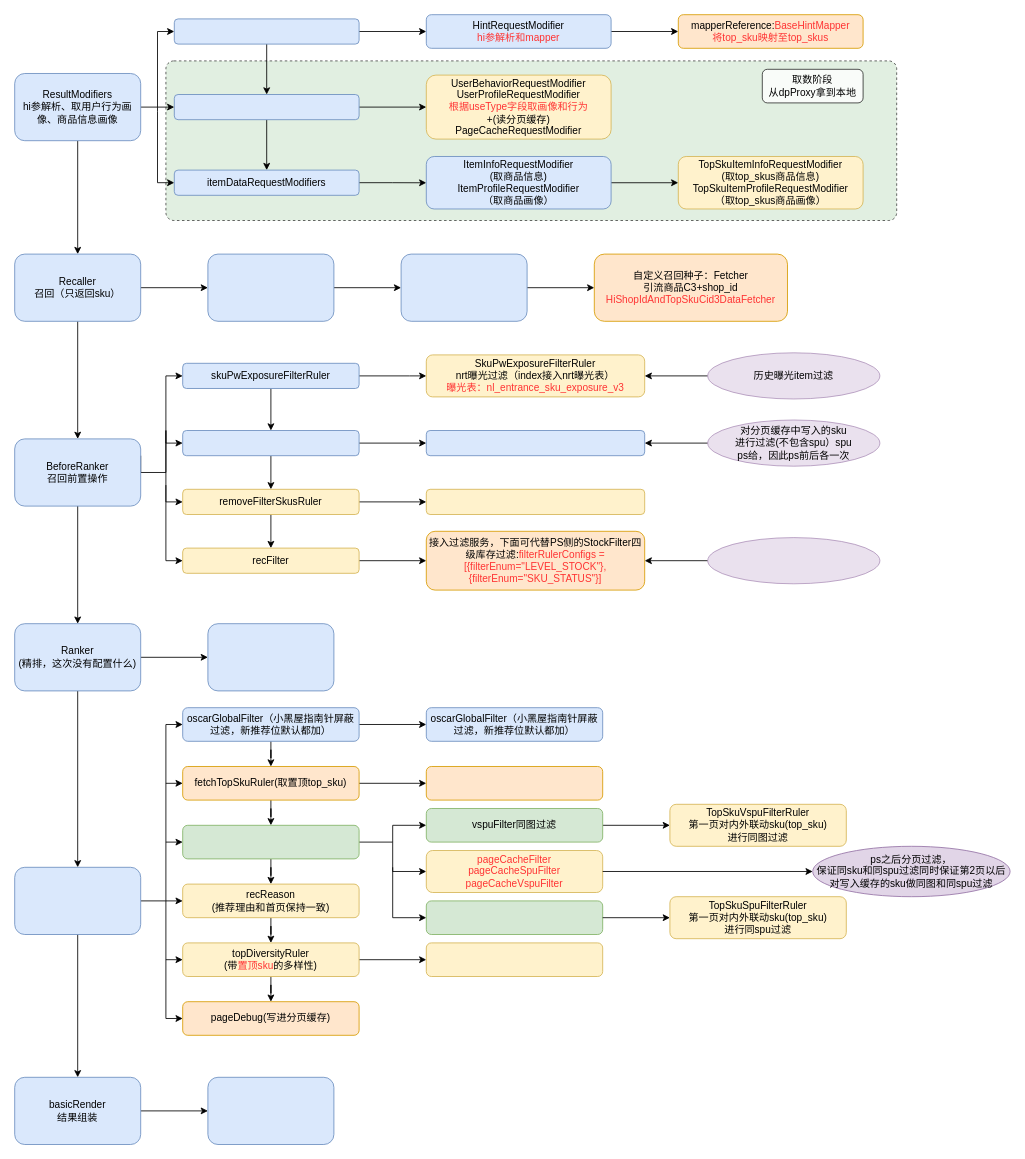
This 1025x1159 diagram has some shape labels left out. Here are the shapes that lost their labels. From the top down, the box of each, then its label:
(173, 18, 359, 44): hintModifiers
(173, 94, 359, 120): uuidUserDataRequestModifiers
(207, 253, 334, 321): coldStIndexRecaller 冷启召回 其他召回算法侧开发
(400, 253, 527, 321): StandardIndexRecaller 复用标准召回
(182, 430, 359, 456): pageCacheFilter
(425, 430, 645, 456): PageCacheFilterRuler（分页过滤）
(425, 488, 645, 514): RemoveFilterSkusRuler（过滤filter_skus）
(707, 537, 880, 584): 接入过滤服务应放在本地 过滤服务之后，避免io过高
(207, 623, 334, 691): 采用默认的default-ranker COMMON
(425, 766, 603, 800): FetchTopSkuItemsBeforeRuler 将top_skus构造进 TopRecItems
(182, 824, 359, 859): postFilter(过滤组合)
(14, 866, 141, 934): Ruler 过滤
(425, 900, 603, 934): spuFilter同spu过滤
(425, 942, 603, 976): TopDiversityRuler(从构造的TopRecItems中取置顶插入recItems）
(207, 1076, 334, 1144): TemplateRender
